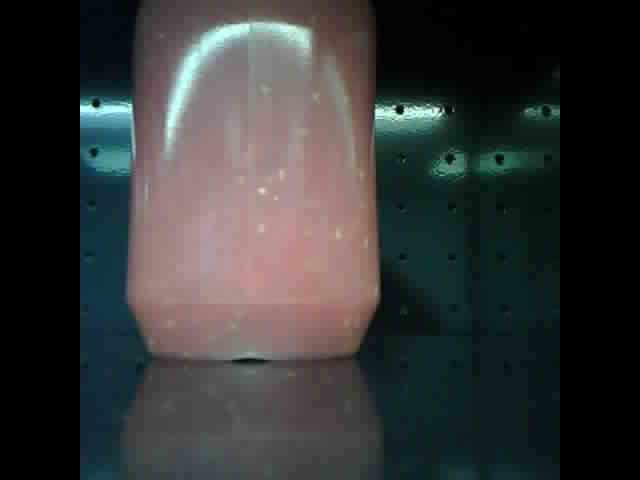tomate: (127, 3, 379, 363)
